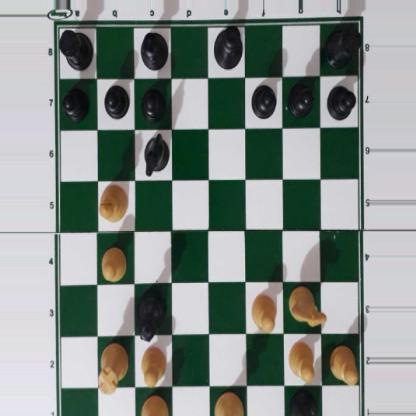black-bishop: (138, 31, 170, 70), (288, 388, 322, 416)
black-king: (211, 23, 243, 69)
black-knight: (142, 132, 170, 177)
black-pawn: (327, 82, 355, 120), (250, 81, 276, 117), (62, 85, 89, 119), (103, 83, 128, 119), (288, 80, 313, 116), (141, 85, 165, 121)
black-queen: (136, 286, 167, 345)
black-rook: (323, 24, 362, 69), (57, 26, 93, 70)
white-bishop: (98, 184, 128, 222), (141, 393, 168, 416)
white-knight: (288, 284, 327, 327)
white-pawn: (287, 338, 316, 382), (139, 345, 166, 387), (329, 344, 358, 383), (250, 292, 276, 331), (100, 247, 127, 282)
white-queen: (214, 392, 244, 416)
white-rook: (98, 340, 129, 393)
